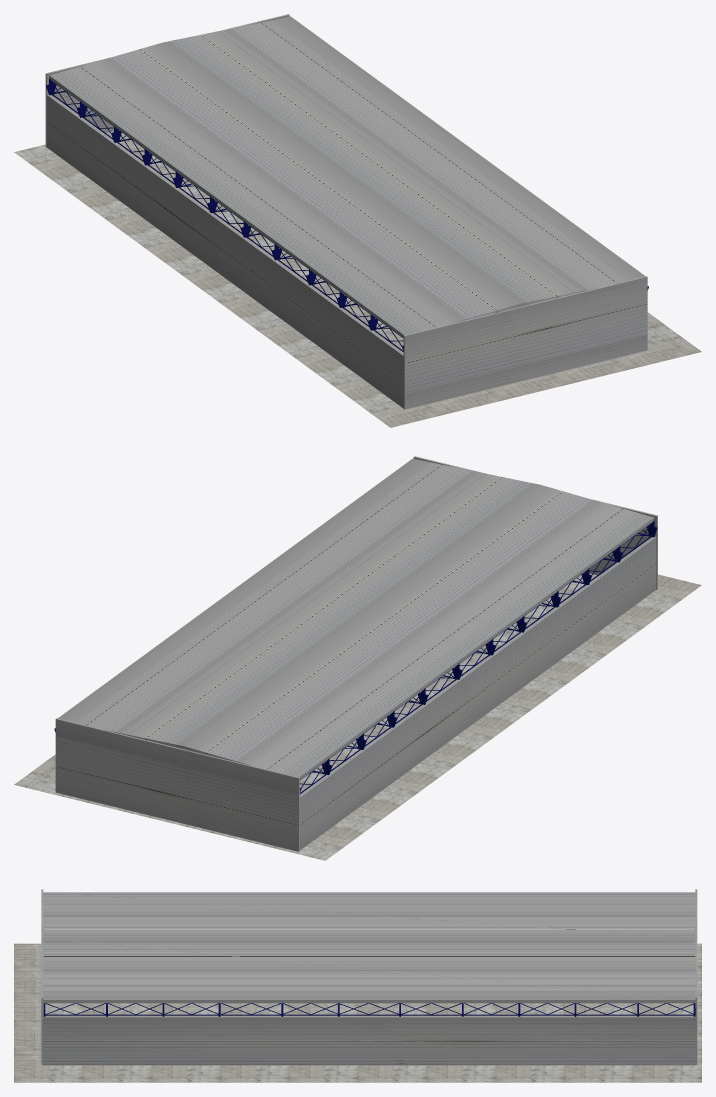
Rendered from HALLturtlebot.obj.
The picture shows the model from 3 angles, top to bottom: view 1: azimuth 30°, elevation 25°; view 2: azimuth 150°, elevation 25°; view 3: azimuth 270°, elevation 25°; orthographic projection. The views are drawn at different scales.
Parts seen in each view (by area): view 1: Box017, Box042, Box044, Plane001, Box008; view 2: Box017, Box042, Box044, Plane001, Box008; view 3: Box017, Box043, Plane001, Box008, Box044.
Boxes of the visible parts, bbox=[...] form: Box017: bbox=[49, 16, 645, 337]; Box042: bbox=[47, 94, 403, 408]; Box044: bbox=[45, 14, 647, 409]; Plane001: bbox=[14, 130, 701, 427]; Box008: bbox=[46, 78, 648, 351]; Box017: bbox=[58, 458, 654, 779]; Box042: bbox=[300, 536, 656, 850]; Box044: bbox=[55, 456, 657, 851]; Plane001: bbox=[14, 573, 701, 860]; Box008: bbox=[54, 520, 657, 793]; Box017: bbox=[43, 892, 695, 1003]; Box043: bbox=[43, 1016, 695, 1065]; Plane001: bbox=[14, 943, 701, 1082]; Box008: bbox=[43, 1003, 695, 1016]; Box044: bbox=[41, 889, 697, 1064].
Size of the model in its own units: 220 by 52.54 by 462.
